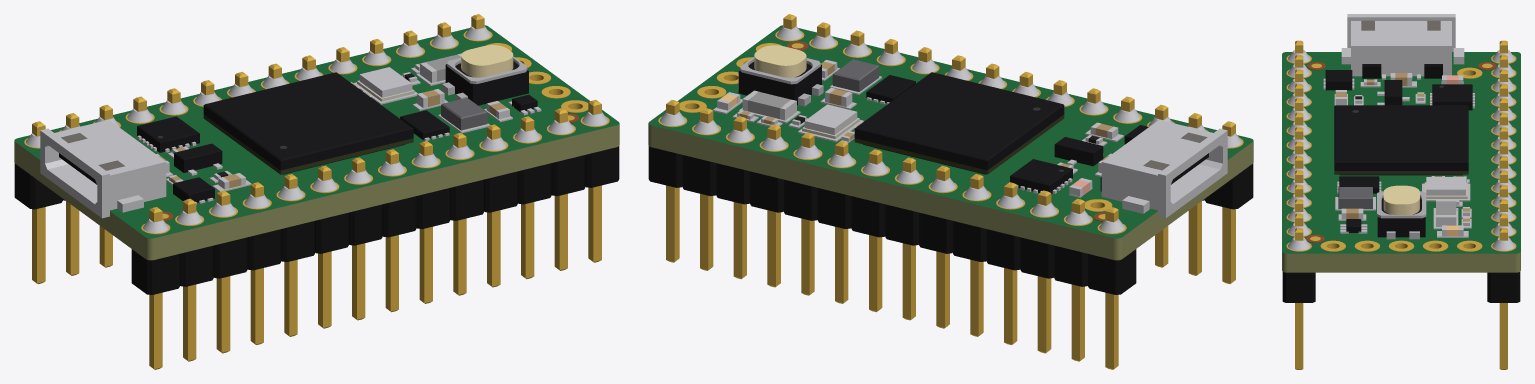
Rendered from teensy_4-0.dae.
3 renders of one model, left to right at view 1: azimuth 30°, elevation 25°; view 2: azimuth 150°, elevation 25°; view 3: azimuth 270°, elevation 25°, orthographic. The views are drawn at different scales.
Parts seen in each view (by area): view 1: header, board, mcu, usb, button, leaded_parts, pads, crystals, top_passives, bootloader_chip, blocks; view 2: header, board, mcu, usb, button, pads, top_passives, crystals, leaded_parts, bootloader_chip, blocks; view 3: board, header, mcu, usb, pads, button, leaded_parts, top_passives, crystals, bootloader_chip, blocks, test_pads.
Boxes of the visible parts, left/top/right/bottom form: header: left=14, top=14, right=619, bottom=369; board: left=14, top=25, right=619, bottom=260; mcu: left=203, top=72, right=413, bottom=174; usb: left=40, top=119, right=166, bottom=218; button: left=442, top=45, right=528, bottom=105; leaded_parts: left=173, top=94, right=541, bottom=204; pads: left=24, top=30, right=609, bottom=234; crystals: left=353, top=53, right=461, bottom=104; top_passives: left=156, top=58, right=512, bottom=191; bootloader_chip: left=137, top=116, right=199, bottom=152; blocks: left=438, top=98, right=490, bottom=133; header: left=648, top=14, right=1253, bottom=369; board: left=648, top=25, right=1253, bottom=260; mcu: left=854, top=72, right=1064, bottom=174; usb: left=1100, top=119, right=1227, bottom=218; button: left=737, top=45, right=823, bottom=106; pads: left=658, top=30, right=1243, bottom=234; top_passives: left=713, top=60, right=1123, bottom=197; crystals: left=738, top=90, right=863, bottom=142; leaded_parts: left=866, top=75, right=1148, bottom=166; bootloader_chip: left=1010, top=159, right=1072, bottom=193; blocks: left=830, top=59, right=881, bottom=94; board: left=1282, top=52, right=1520, bottom=272; header: left=1282, top=40, right=1520, bottom=369; mcu: left=1334, top=105, right=1468, bottom=175; usb: left=1341, top=14, right=1464, bottom=79; pads: left=1286, top=55, right=1516, bottom=251; button: left=1377, top=185, right=1426, bottom=239; leaded_parts: left=1323, top=70, right=1409, bottom=233; top_passives: left=1334, top=73, right=1471, bottom=237; crystals: left=1422, top=177, right=1470, bottom=229; bootloader_chip: left=1430, top=84, right=1474, bottom=110; blocks: left=1335, top=187, right=1375, bottom=210; test_pads: left=1306, top=62, right=1496, bottom=242.
Size of the model in its own units: 0.0363 by 0.0178 by 0.0129.
